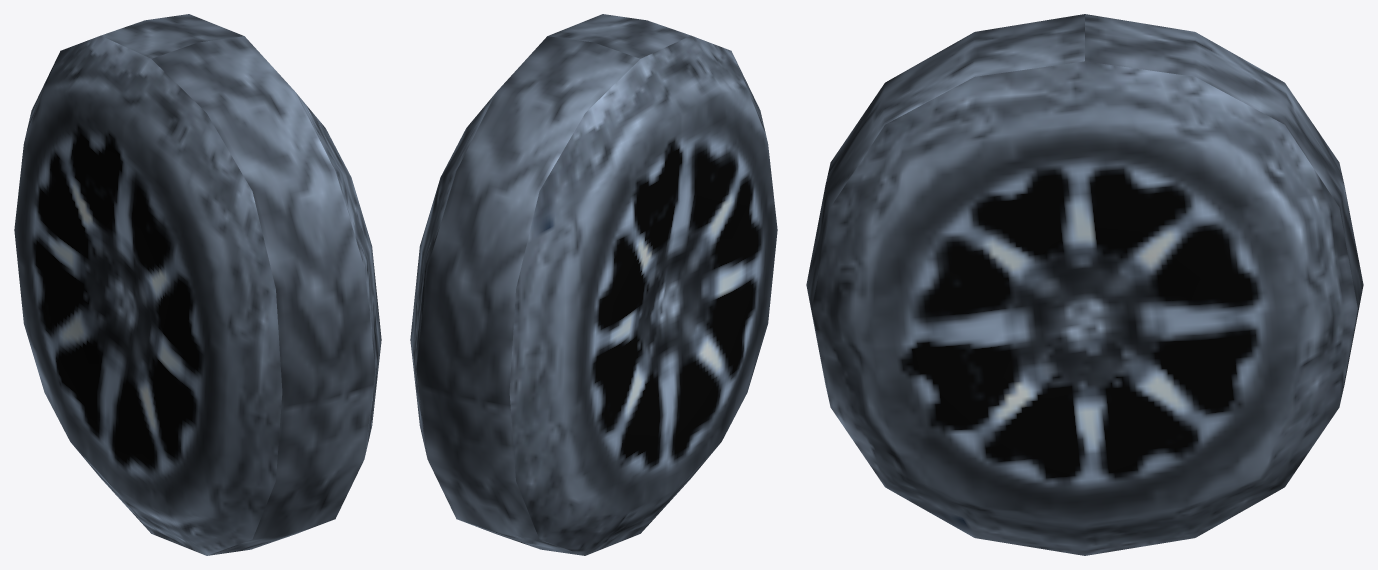
Rendered from GoKart Front Right Wheel.fbx.
The picture shows the model from 3 angles, left to right: view 1: azimuth 30°, elevation 25°; view 2: azimuth 150°, elevation 25°; view 3: azimuth 270°, elevation 25°; orthographic projection. The views are drawn at different scales.
Visible parts, largest first — view 1: Wheel Front right; view 2: Wheel Front right; view 3: Wheel Front right.
Boxes of the visible parts, x1,y1,x2,y2 form: Wheel Front right: [14, 14, 381, 555]; Wheel Front right: [410, 14, 777, 555]; Wheel Front right: [806, 14, 1363, 555].
Size of the model in its own units: 40.86 by 110 by 110.
1 material, 1 textured.
